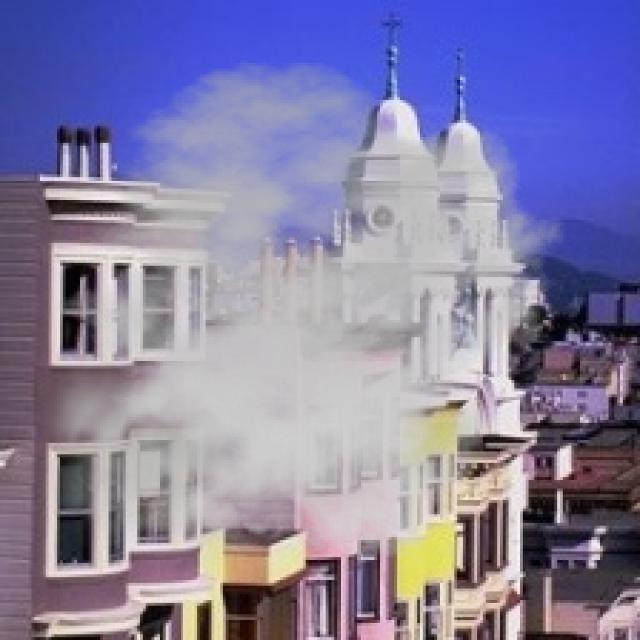Smoke: (20, 60, 566, 577)
